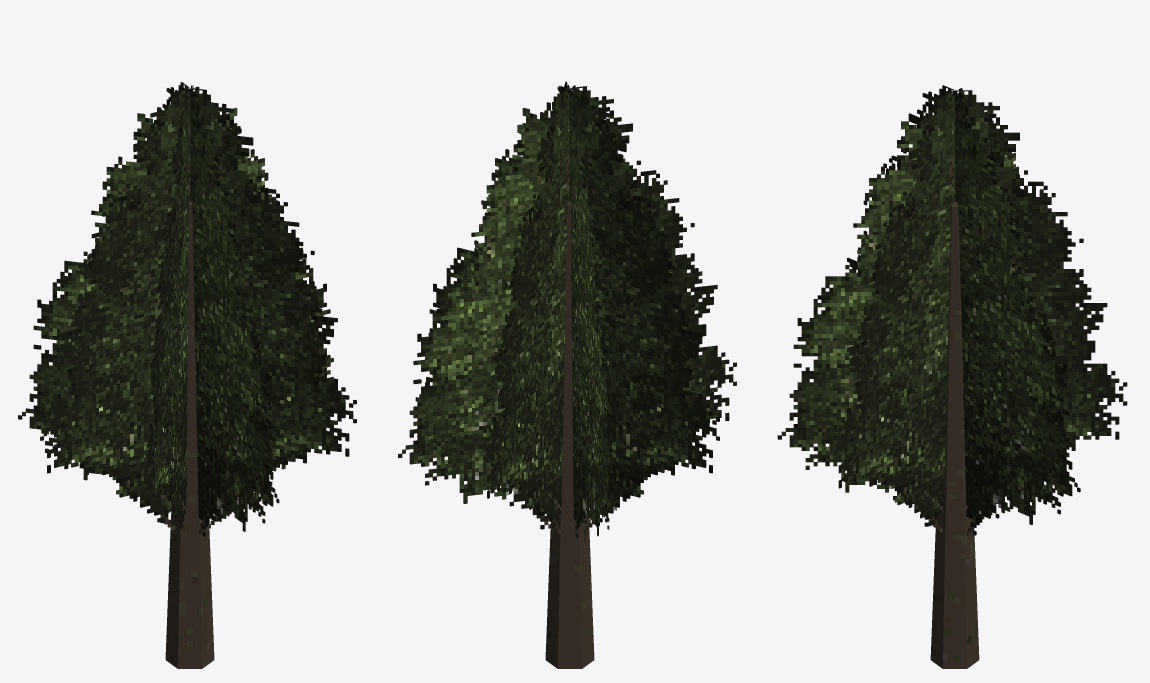
Rendered from tree08.glb.
3 renders of one model, left to right at view 1: azimuth 30°, elevation 25°; view 2: azimuth 150°, elevation 25°; view 3: azimuth 270°, elevation 25°, orthographic.
Visible parts, largest first — view 1: tree08; view 2: tree08; view 3: tree08.
Part boxes in pixels (x1,y1,x2,y2): tree08: [18, 82, 356, 668]; tree08: [398, 81, 736, 668]; tree08: [777, 85, 1127, 668].
Size of the model in its own units: 4.61 by 8 by 4.61.
1 material, 1 textured.
